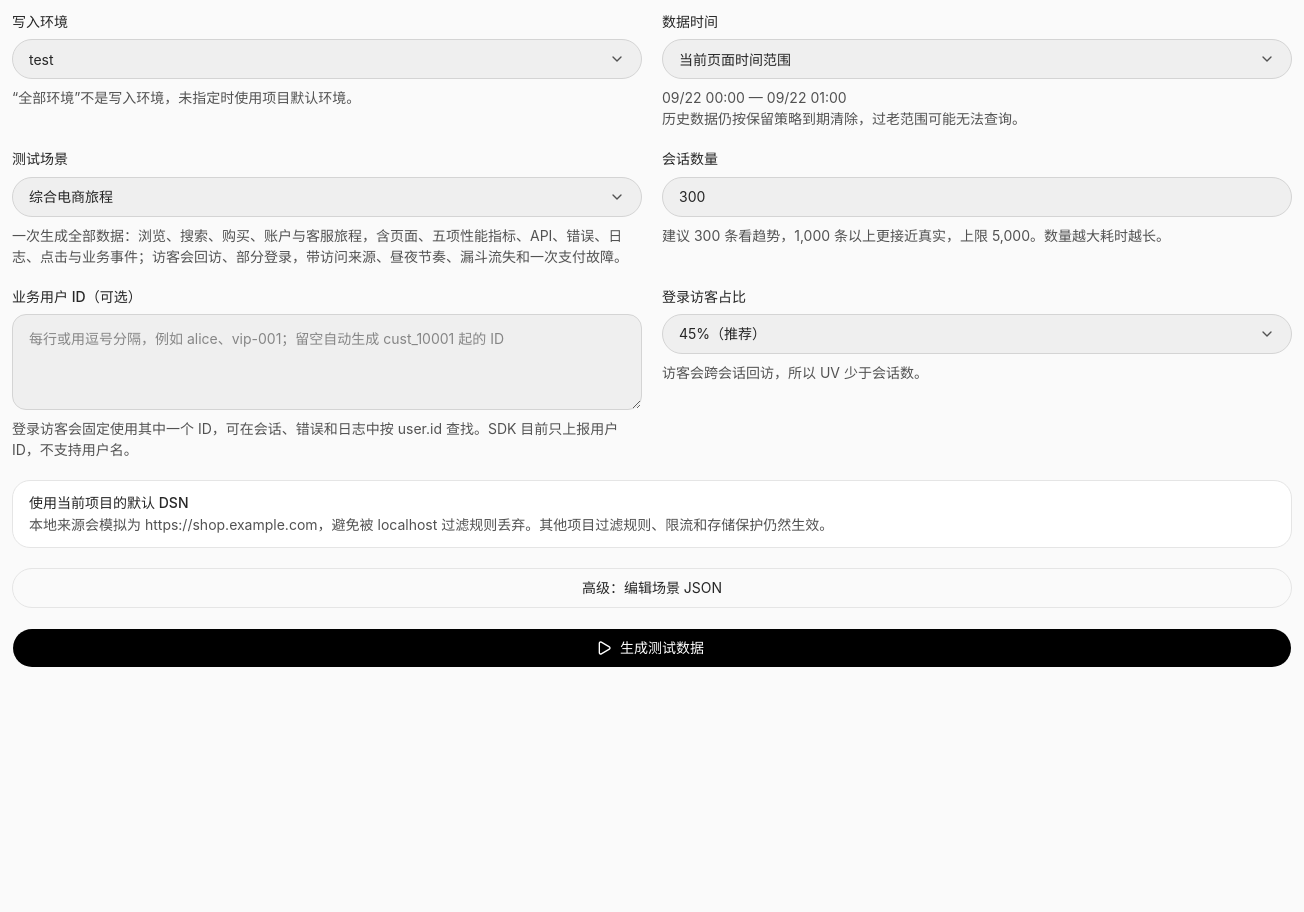
development generator › uses current scope without cached DSN, verifies a sample and invalidates dashboard
This screenshot has width=1304, height=912.
Step 1. Click the button "生成测试数据" → point(652, 648), box [12,628,1292,668]
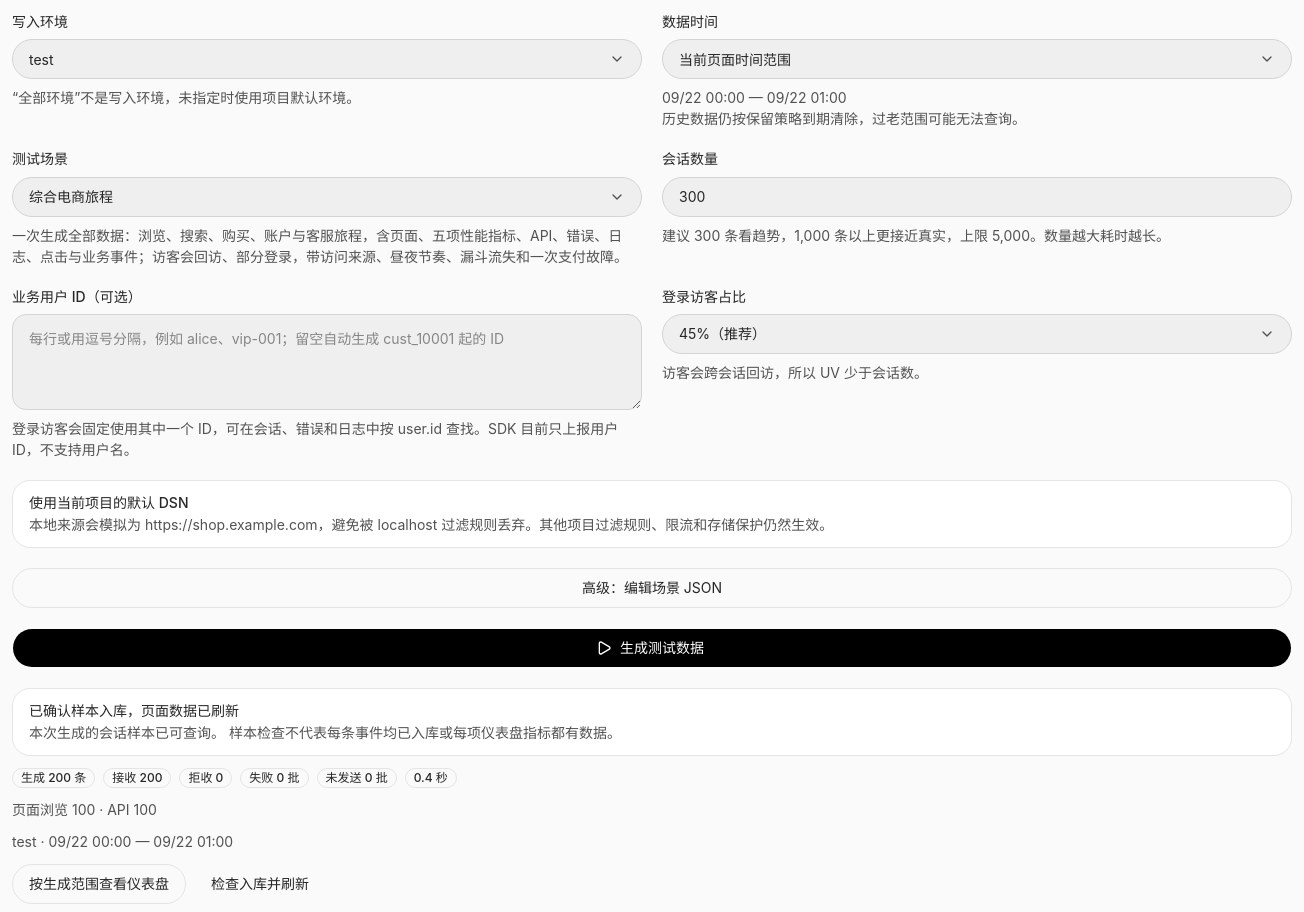
Expected: the text "已确认样本入库，页面数据已刷新" is shown, [29,702,239,719]
